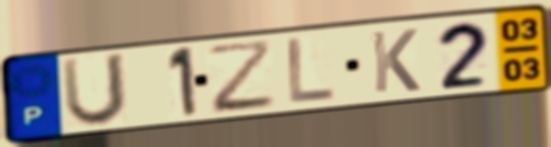1: (164, 43, 200, 121)
2: (431, 16, 495, 95)
K: (368, 26, 423, 95)
L: (285, 35, 338, 106)
U: (59, 50, 130, 130)
Z: (203, 37, 280, 117)
